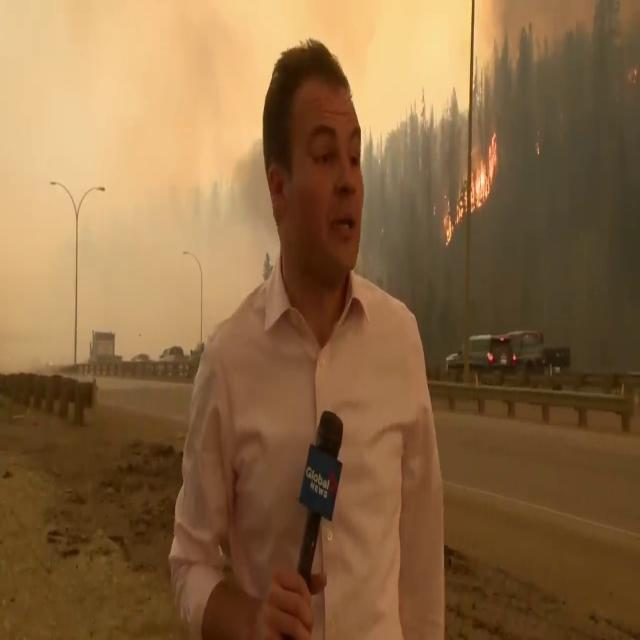Fire: (467, 126, 499, 215), (440, 184, 463, 245)
Smoke: (108, 13, 278, 350), (480, 3, 640, 209)
